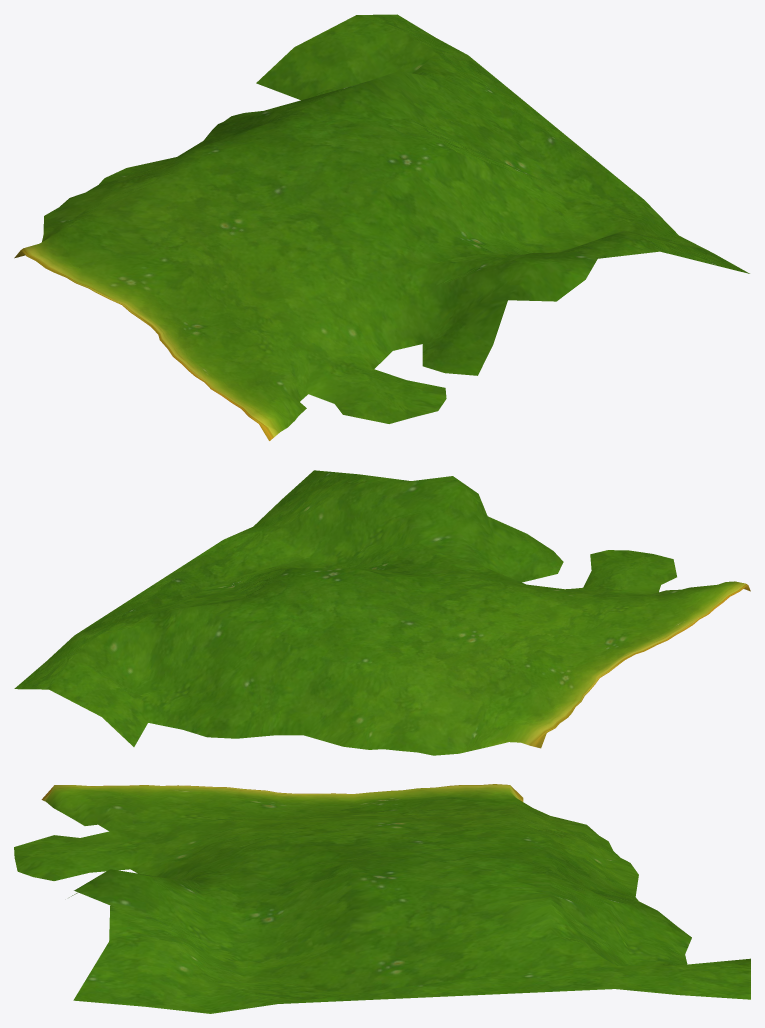
Rendered from Amazon06_Terrain01.FBX.
3 renders of one model, top to bottom at view 1: azimuth 30°, elevation 25°; view 2: azimuth 150°, elevation 25°; view 3: azimuth 270°, elevation 25°, orthographic. The views are drawn at different scales.
Parts seen in each view (by area): view 1: Amazon06_Terrain01; view 2: Amazon06_Terrain01; view 3: Amazon06_Terrain01.
Boxes of the visible parts, box(x1,y1,x2,y2) form: Amazon06_Terrain01: box(14, 14, 749, 440); Amazon06_Terrain01: box(14, 470, 750, 755); Amazon06_Terrain01: box(14, 784, 750, 1013).
Size of the model in its own units: 9567 by 1442 by 12632.
